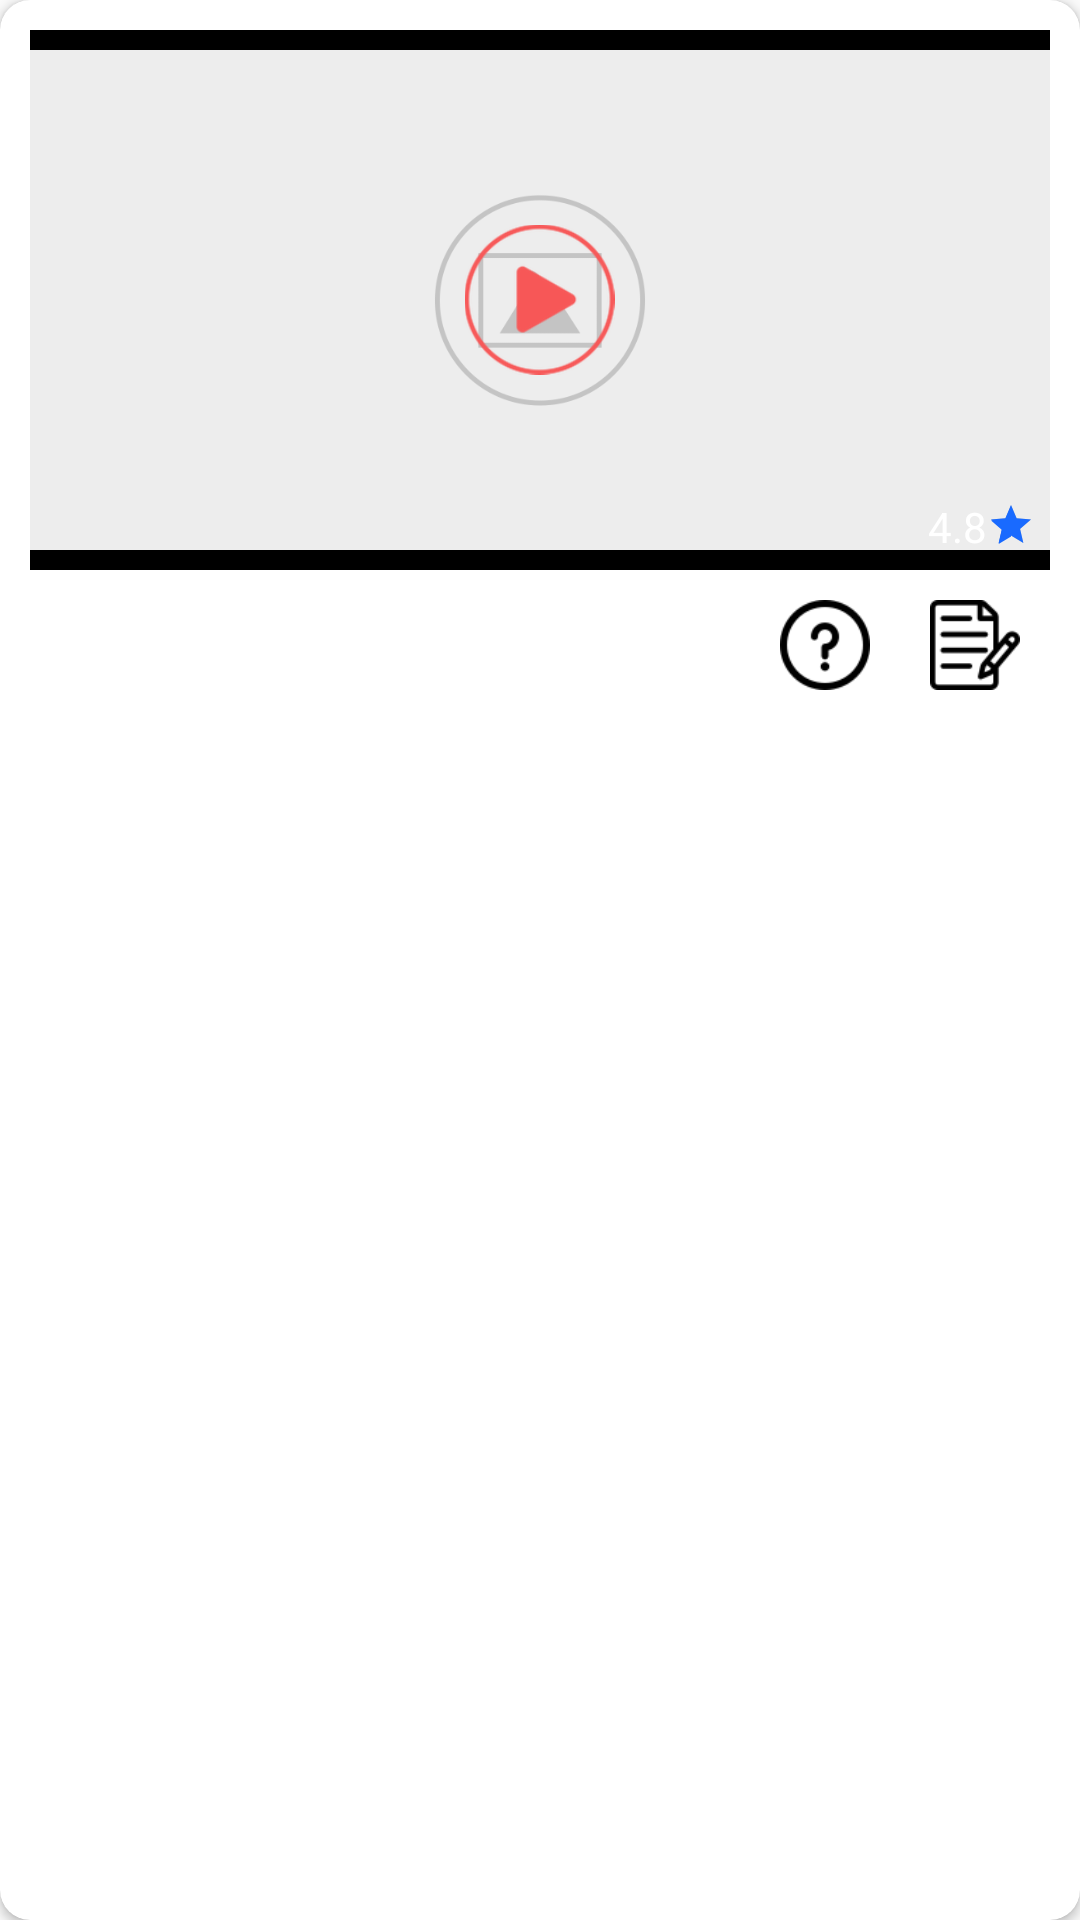

Icons on this 1080w x 1920h Android screen, each with its box as (x1, y1, x2, y2):
notes: (930, 600, 1020, 690)
play: (465, 225, 615, 375)
quest: (780, 600, 870, 690)
